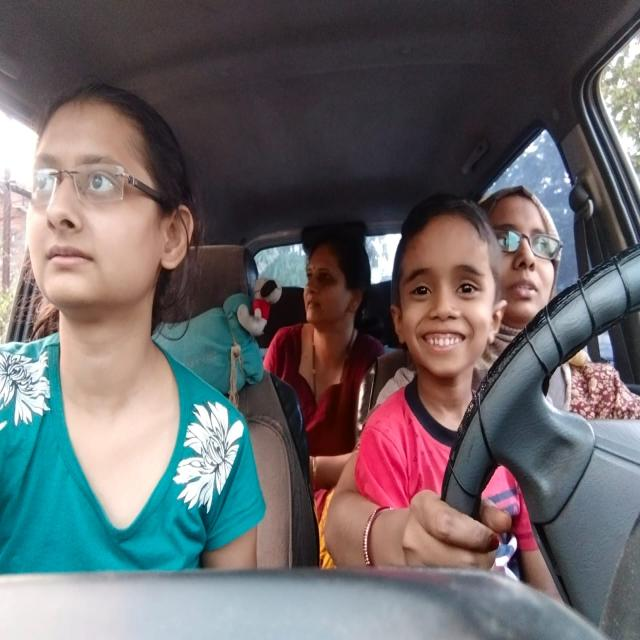child: (386, 198, 513, 382)
person: (21, 74, 198, 314), (494, 180, 569, 320), (298, 232, 374, 333)
